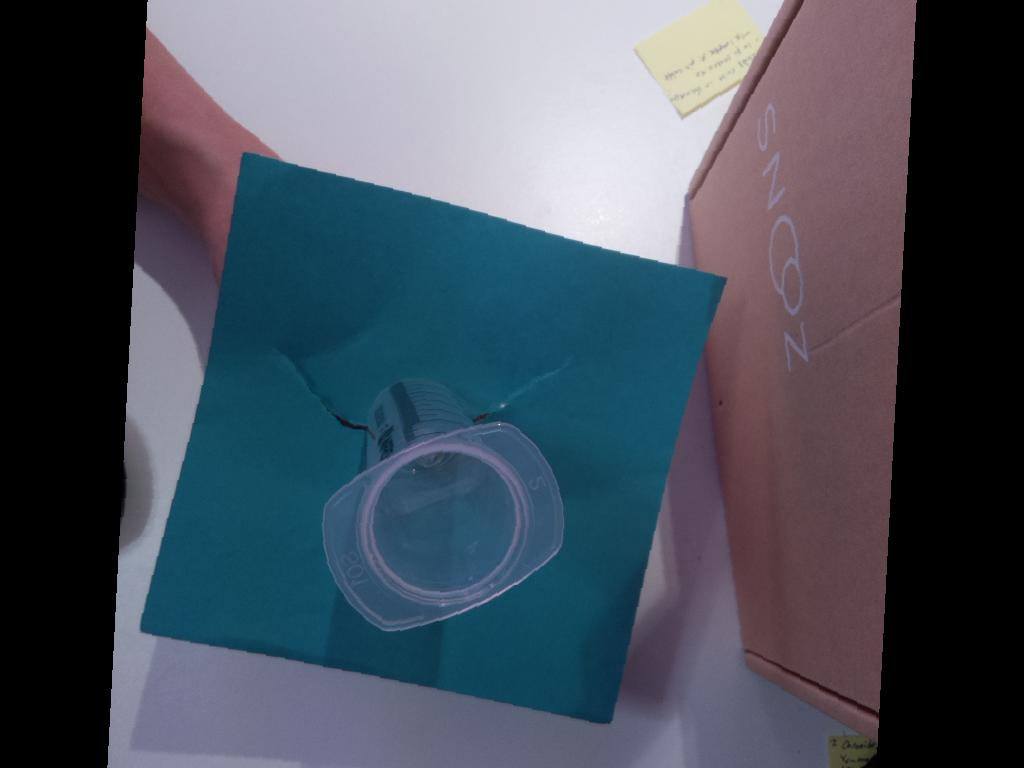clean: (321, 421, 566, 630)
